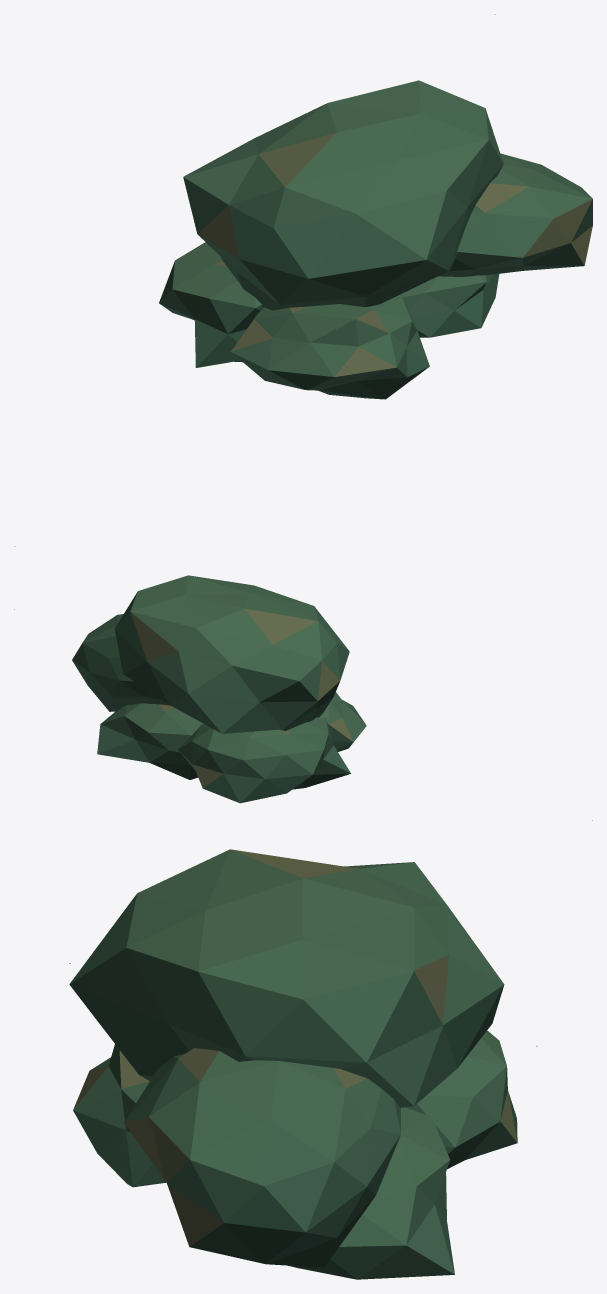
Rendered from Juniper2_leaf.glb.
3 views of the same model, one above another, from view 1: azimuth 30°, elevation 25°; view 2: azimuth 150°, elevation 25°; view 3: azimuth 270°, elevation 25° (orthographic). The views are drawn at different scales.
Parts seen in each view (by area): view 1: Juniper2_leaf; view 2: Juniper2_leaf; view 3: Juniper2_leaf.
Boxes of the visible parts, x1,y1,x2,y2 form: Juniper2_leaf: [14, 14, 592, 546]; Juniper2_leaf: [14, 575, 592, 820]; Juniper2_leaf: [69, 849, 537, 1279].
Size of the model in its own units: 9.28 by 3.53 by 4.07.
